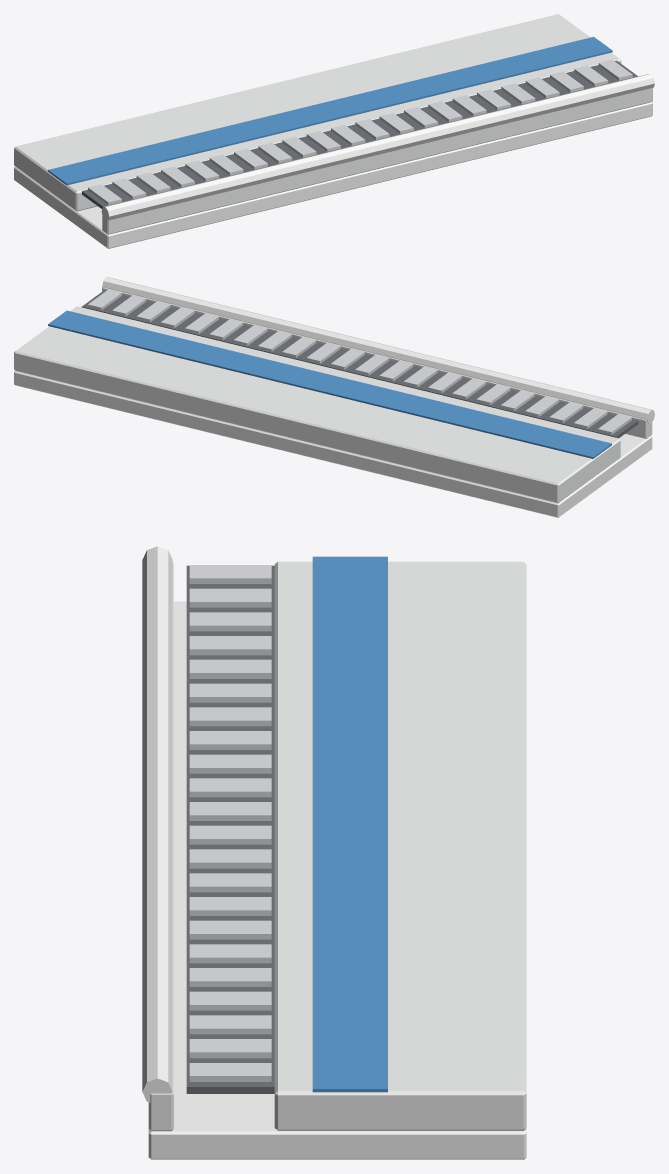
Rendered from public-swimming-baths-and-poolside-pool-edge-channel-p-eee34786__35240.glb.
The picture shows the model from 3 angles, top to bottom: view 1: azimuth 30°, elevation 25°; view 2: azimuth 150°, elevation 25°; view 3: azimuth 270°, elevation 25°; orthographic projection. The views are drawn at different scales.
Visible parts, largest first — view 1: pool-edge-channel-piece; view 2: pool-edge-channel-piece; view 3: pool-edge-channel-piece.
Part boxes in pixels (x1,y1,x2,y2): pool-edge-channel-piece: (14, 14, 654, 248); pool-edge-channel-piece: (14, 277, 654, 517); pool-edge-channel-piece: (142, 546, 526, 1159).
Size of the model in its own units: 2 by 0.1439 by 0.6101.
